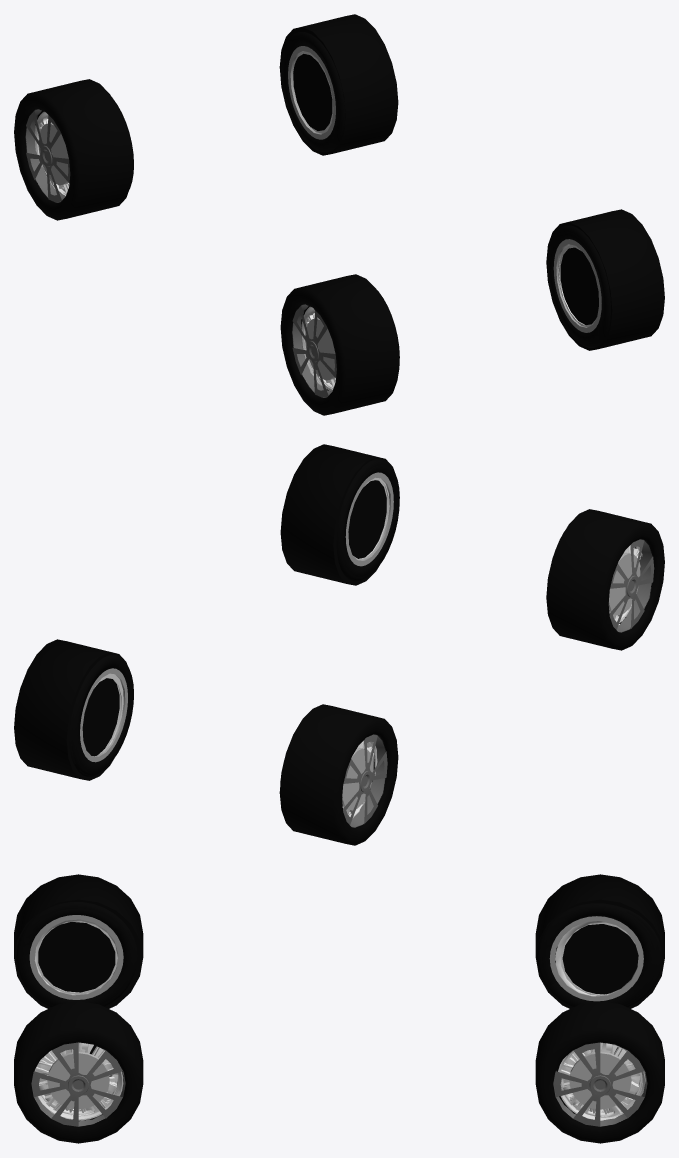
Rendered from Tesla_wheels.fbx.
The picture shows the model from 3 angles, top to bottom: view 1: azimuth 30°, elevation 25°; view 2: azimuth 150°, elevation 25°; view 3: azimuth 270°, elevation 25°; orthographic projection. The views are drawn at different scales.
Parts seen in each view (by area): view 1: Main_shpe.004, Main_shpe.001, Main_shpe.003, Main_shpe.002, WheelStarRB, WheelStarLF, WheelPalmLF; view 2: Main_shpe.001, Main_shpe.004, Main_shpe.002, Main_shpe.003, WheelStarLF, WheelStarRB, WheelPalmLF1, WheelPalmLF; view 3: Main_shpe.002, Main_shpe.003, Main_shpe.001, Main_shpe.004, WheelStarRF, WheelStarLB, WheelPalmRF, WheelPalmRB, WheelMagicLB, WheelMagicLF, WheelThreeStar_RB, WheelMagicRB (+1 smaller).
Part boxes in pixels (x1,y1,x2,y2): Main_shpe.004: [14, 79, 132, 220]; Main_shpe.001: [280, 274, 399, 415]; Main_shpe.003: [279, 14, 398, 155]; Main_shpe.002: [546, 209, 664, 350]; WheelStarRB: [282, 32, 345, 152]; WheelStarLF: [547, 225, 610, 343]; WheelPalmLF: [548, 232, 610, 347]; Main_shpe.001: [546, 509, 664, 650]; Main_shpe.004: [279, 704, 398, 845]; Main_shpe.002: [280, 444, 394, 585]; Main_shpe.003: [14, 639, 127, 780]; WheelStarLF: [336, 459, 399, 576]; WheelStarRB: [75, 654, 133, 772]; WheelPalmLF1: [71, 662, 132, 774]; WheelPalmLF: [336, 465, 399, 581]; Main_shpe.002: [14, 1001, 143, 1143]; Main_shpe.003: [535, 1001, 664, 1143]; Main_shpe.001: [14, 874, 143, 1008]; Main_shpe.004: [535, 874, 664, 1008]; WheelStarRF: [16, 902, 134, 1005]; WheelStarLB: [536, 903, 654, 1007]; WheelPalmRF: [16, 908, 135, 1007]; WheelPalmRB: [542, 903, 657, 1005]; WheelMagicLB: [556, 1043, 640, 1120]; WheelMagicLF: [35, 1042, 121, 1121]; WheelThreeStar_RB: [555, 919, 658, 1007]; WheelMagicRB: [561, 906, 662, 1001].
Bounding box in the file's own units: 211 × 74.51 × 376.
